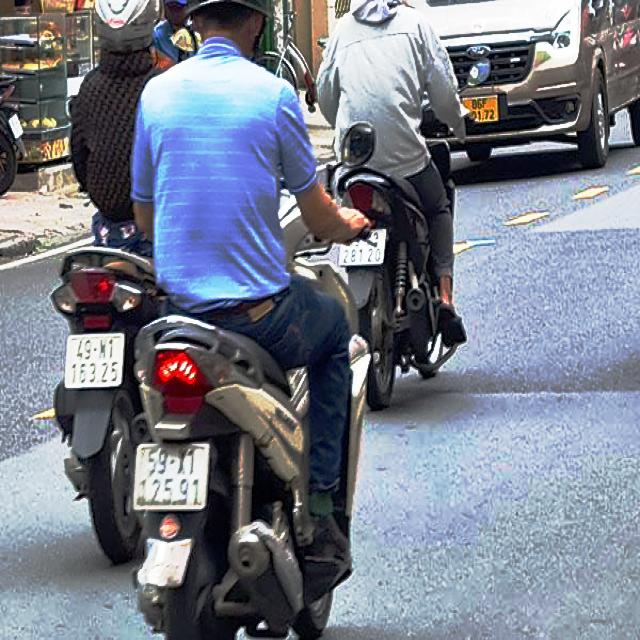license_plate: (133, 446, 209, 510), (65, 335, 124, 387)
